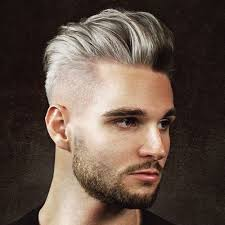white_male: (72, 47, 170, 196)
